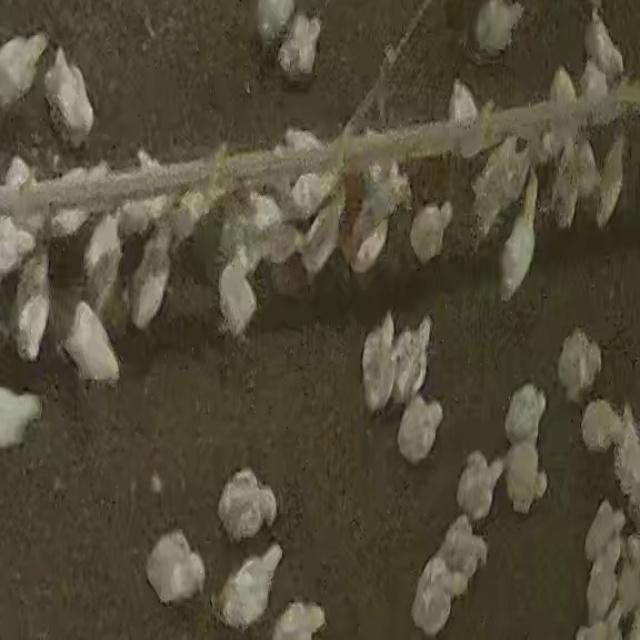chicken: (497, 168, 542, 306), (44, 46, 96, 146), (220, 545, 280, 630), (144, 532, 211, 602), (432, 518, 491, 594), (62, 300, 115, 382), (221, 466, 280, 539), (13, 251, 51, 361), (128, 232, 170, 331), (470, 130, 508, 236), (0, 31, 48, 114), (356, 311, 396, 409), (412, 562, 466, 632), (556, 328, 603, 404), (222, 244, 260, 337), (456, 452, 506, 522), (300, 198, 342, 280), (391, 315, 430, 403), (584, 538, 622, 626), (503, 442, 549, 514), (549, 135, 583, 229), (472, 0, 526, 59), (279, 12, 323, 84), (596, 129, 626, 229), (408, 200, 454, 265), (1, 381, 44, 450), (83, 210, 123, 284), (502, 382, 547, 446), (583, 9, 623, 79), (613, 408, 640, 508), (584, 500, 624, 565), (402, 396, 442, 459), (579, 397, 623, 452), (351, 217, 391, 276), (446, 78, 481, 144), (0, 212, 36, 276), (270, 600, 327, 638), (548, 65, 578, 136), (615, 540, 640, 618), (262, 222, 301, 267), (580, 56, 613, 104), (2, 154, 32, 198)
